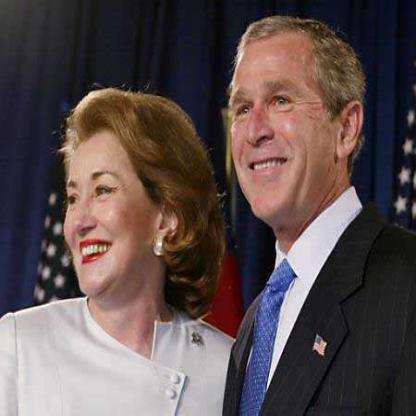face: (224, 22, 341, 230), (50, 99, 161, 304)
